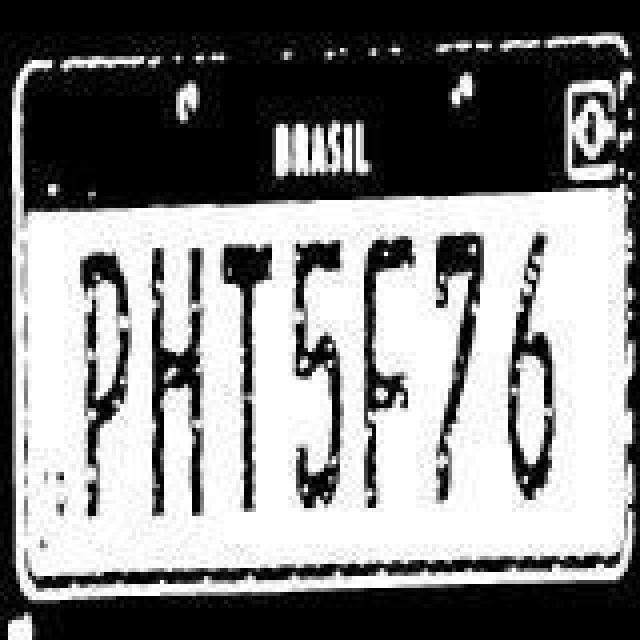5: (284, 232, 348, 512)
6: (498, 230, 574, 506)
7: (432, 228, 488, 508)
F: (348, 232, 420, 520)
H: (148, 232, 212, 520)
P: (66, 240, 134, 520)
T: (214, 242, 282, 526)
